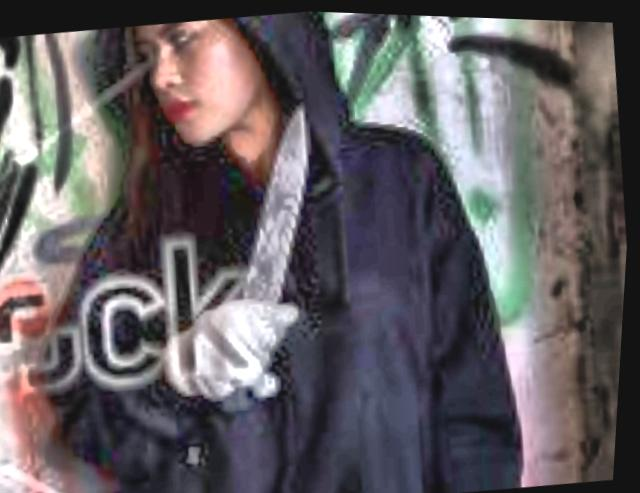knife: (200, 85, 340, 372)
